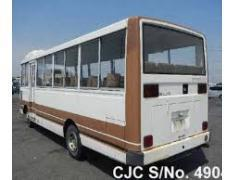bus: (18, 14, 213, 178)
